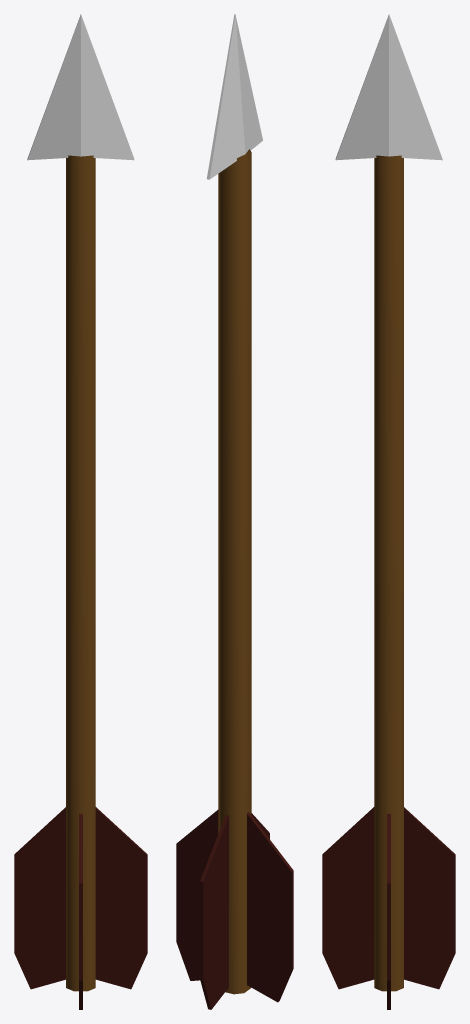
The model's file is arrow.fbx.
The picture shows the model from 3 angles, left to right: view 1: azimuth 90°, elevation 25°; view 2: azimuth 150°, elevation 25°; view 3: azimuth 270°, elevation 25°; orthographic projection.
Parts seen in each view (by area): view 1: Cube, Cube.002, Cube.001; view 2: Cube, Cube.002, Cube.001; view 3: Cube, Cube.002, Cube.001.
Part boxes in pixels (x1,y1,x2,y2): Cube: [66, 155, 95, 991]; Cube.002: [14, 807, 147, 1009]; Cube.001: [27, 14, 134, 160]; Cube: [218, 149, 251, 994]; Cube.002: [176, 810, 293, 1009]; Cube.001: [206, 14, 262, 179]; Cube: [374, 155, 403, 991]; Cube.002: [322, 807, 455, 1009]; Cube.001: [335, 14, 442, 160].
Size of the model in its own units: 47.86 by 386 by 47.86.
